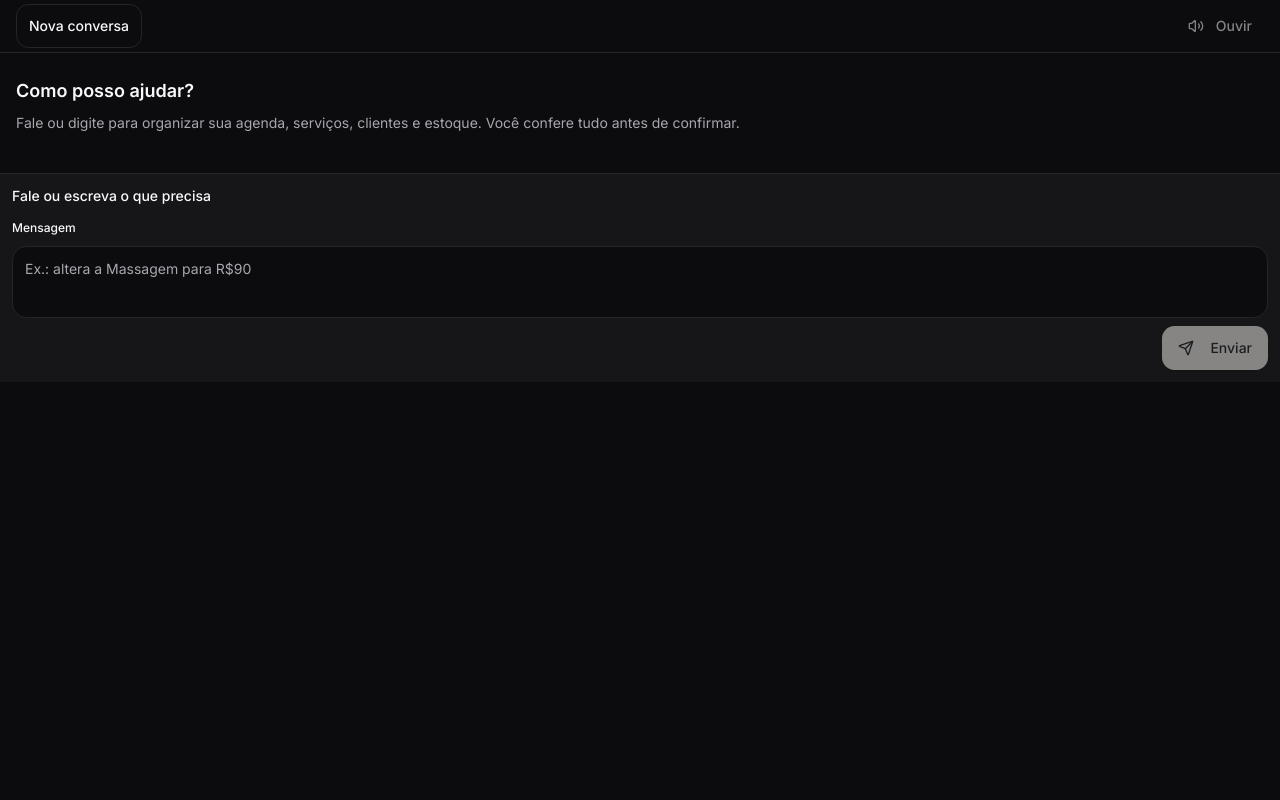
a refusal while understanding is the reply of that turn (copy on) › without the marker: the historical red banner only
The width and height of the screenshot is (1280, 800).
Click the button "Nova conversa".
click(79, 26)  # box x1=16 y1=4 x2=142 y2=48
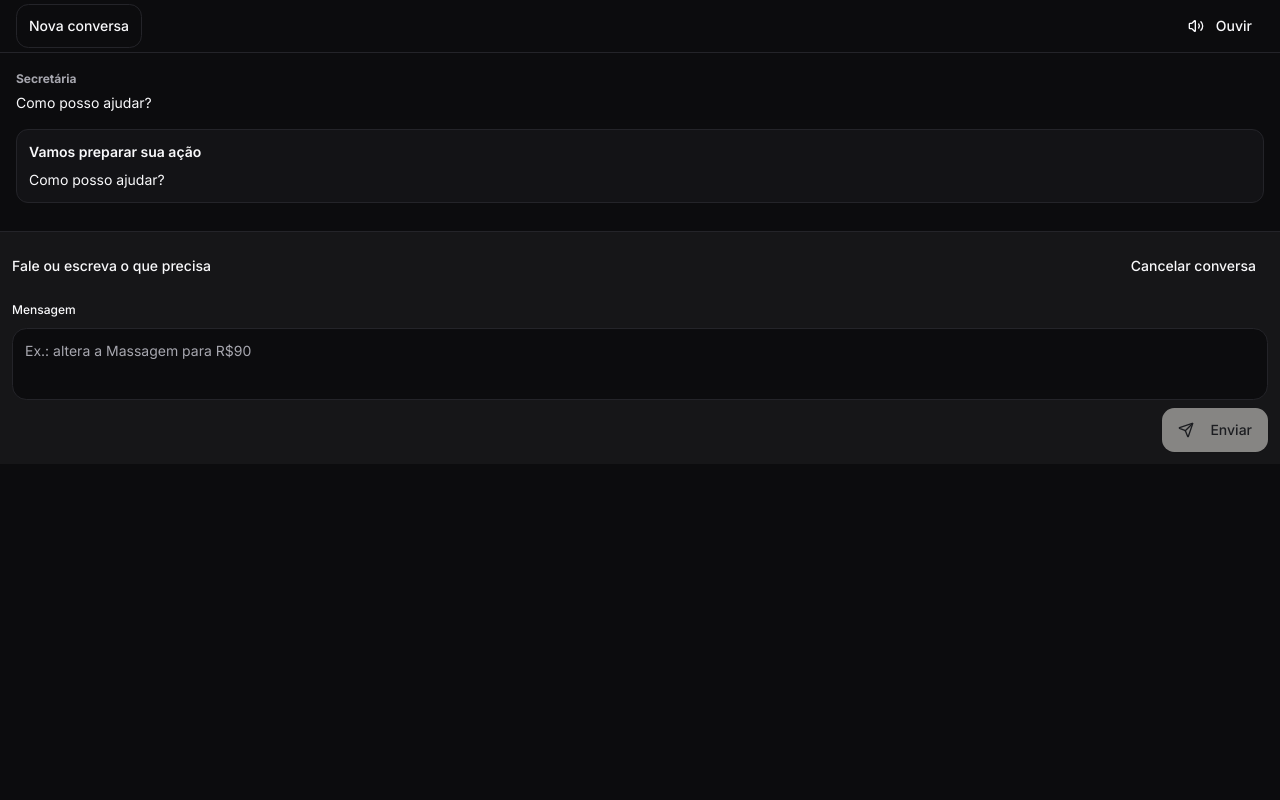
Type "passa a yara pra sexta" into the text box labelled "Mensagem".
click(640, 364); type("passa a yara pra sexta")  # box x1=12 y1=328 x2=1268 y2=400
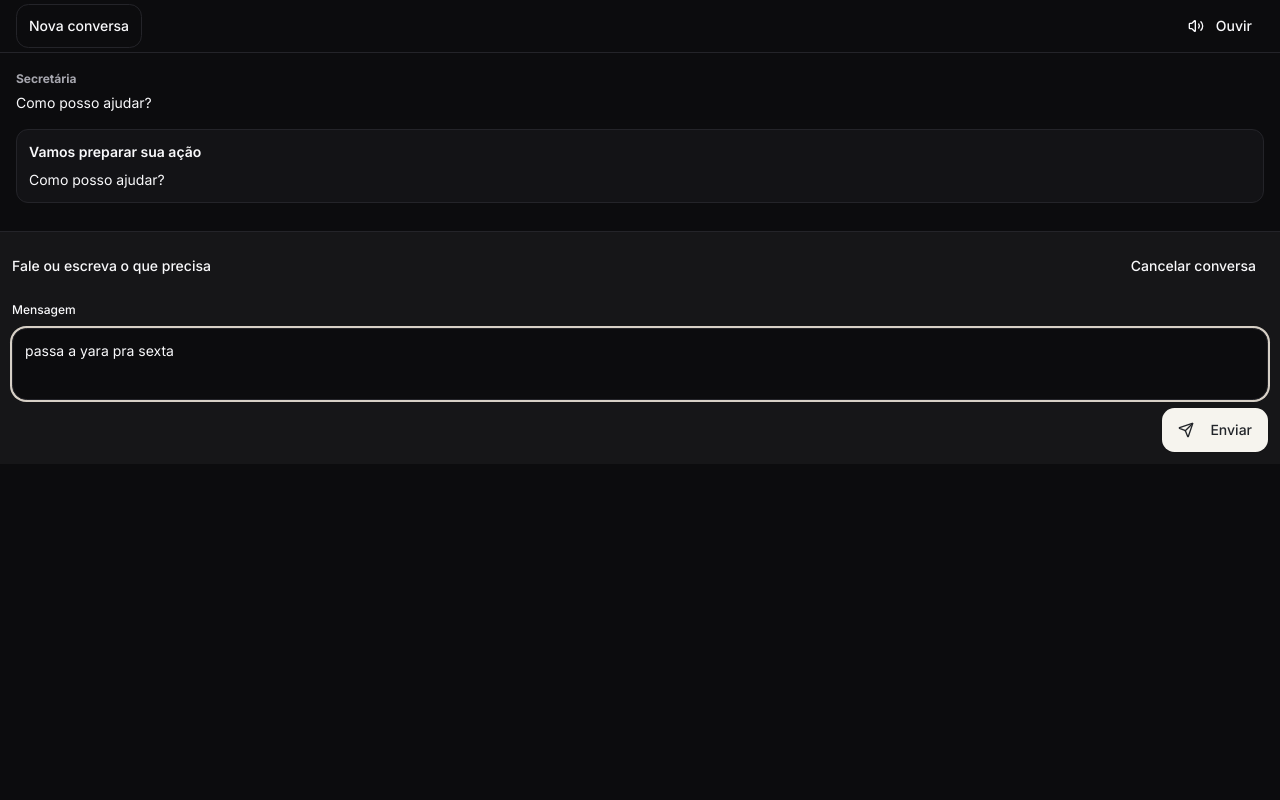
Click the button "Enviar".
click(1215, 430)  # box x1=1162 y1=408 x2=1268 y2=452
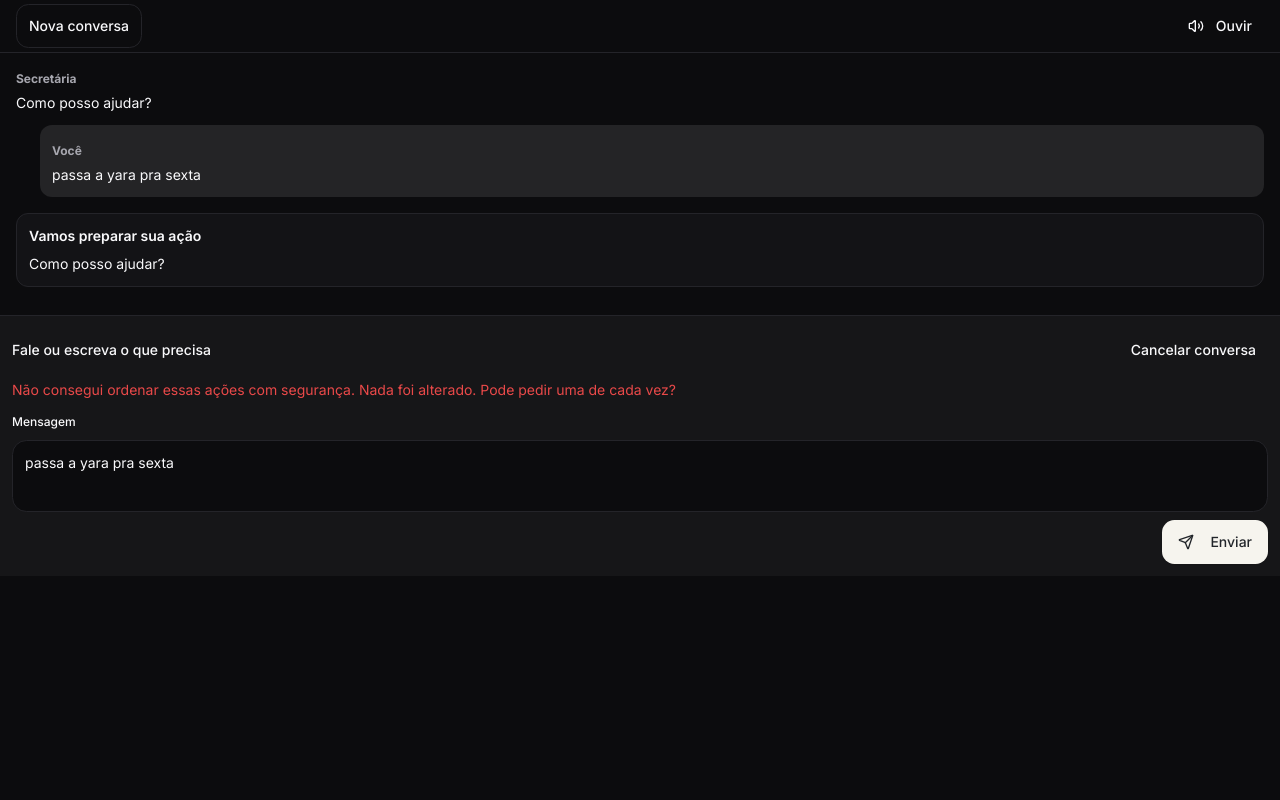
Check: the 2nd message shows "Não consegui ordenar essas ações com segurança. Nada foi alterado. Pode pedir uma de cada vez?", box x1=12 y1=381 x2=676 y2=398
